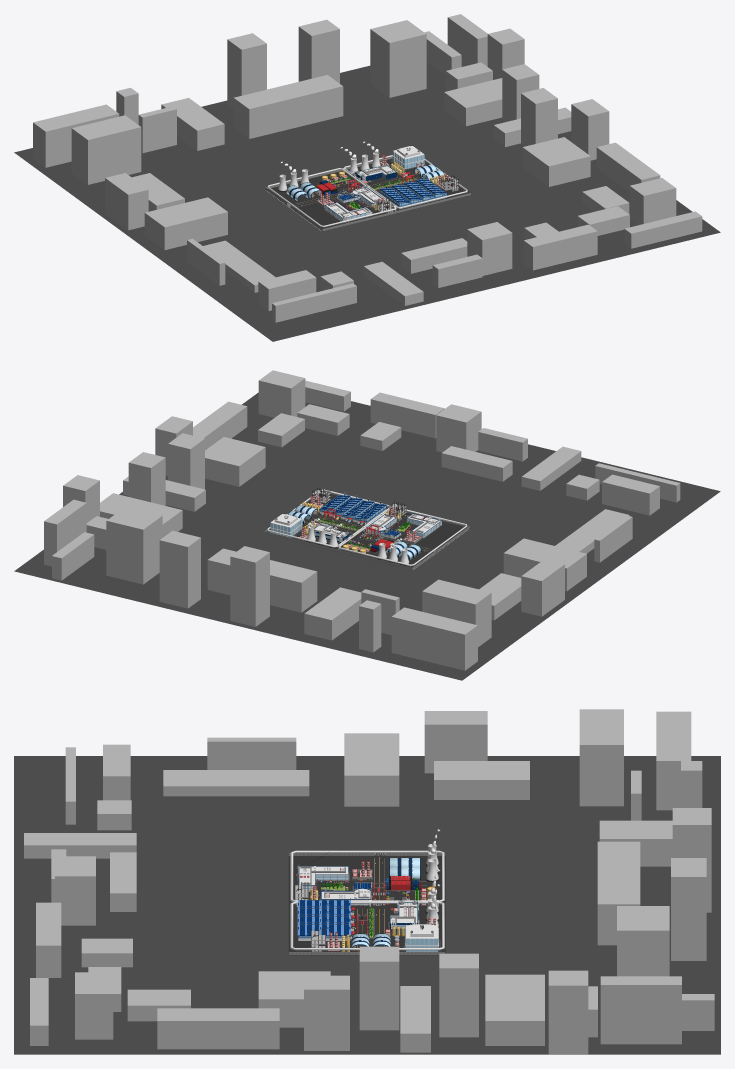
3 renders of one model, top to bottom at view 1: azimuth 30°, elevation 25°; view 2: azimuth 150°, elevation 25°; view 3: azimuth 270°, elevation 25°, orthographic. The views are drawn at different scales.
Visible parts, largest first — view 1: background, env_industry_main, pipe2, Cube.093, building_office.002; view 2: background, env_industry_main, pipe2, Cube.093, building_office.002, building_office; view 3: background, env_industry_main, pipe2, building_office.002, Cube.093, buidling_production_large.003, building_office, building_production, machine hall 1.
Boxes of the visible parts, x1=… form: background: x1=14, y1=14, x2=720, y2=341; env_industry_main: x1=265, y1=156, x2=471, y2=231; pipe2: x1=267, y1=155, x2=467, y2=227; Cube.093: x1=391, y1=144, x2=426, y2=170; building_office.002: x1=323, y1=201, x2=373, y2=223; background: x1=14, y1=370, x2=720, y2=680; env_industry_main: x1=264, y1=491, x2=469, y2=569; pipe2: x1=267, y1=489, x2=467, y2=566; Cube.093: x1=269, y1=512, x2=302, y2=537; building_office.002: x1=405, y1=513, x2=442, y2=538; building_office: x1=365, y1=514, x2=402, y2=539; background: x1=14, y1=709, x2=720, y2=1054; env_industry_main: x1=288, y1=853, x2=445, y2=955; pipe2: x1=290, y1=850, x2=444, y2=950; building_office.002: x1=296, y1=864, x2=350, y2=892; Cube.093: x1=403, y1=922, x2=440, y2=951; buidling_production_large.003: x1=297, y1=922, x2=354, y2=940; building_office: x1=319, y1=882, x2=372, y2=905; building_production: x1=387, y1=900, x2=419, y2=930; machine hall 1: x1=389, y1=858, x2=420, y2=880.
Bounding box in the file's own units: 910 × 128 × 910.
Materials: 14 (11 with a texture image).
